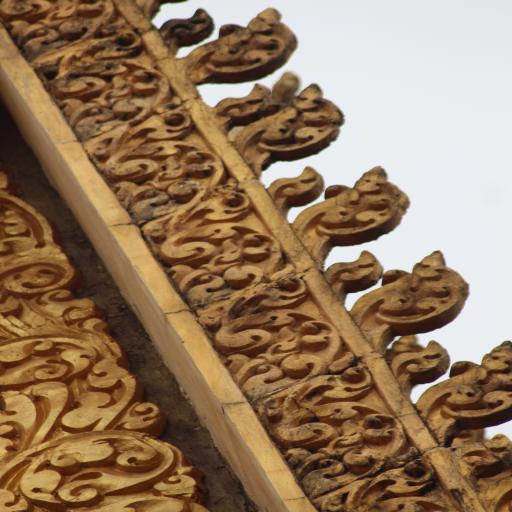la: (0, 422, 185, 511), (0, 337, 132, 422), (292, 452, 451, 512), (180, 282, 324, 346), (82, 118, 222, 174), (253, 401, 406, 452), (224, 346, 370, 399), (4, 2, 130, 62), (150, 222, 278, 281), (40, 62, 172, 118), (122, 171, 252, 223), (0, 191, 79, 276), (0, 275, 98, 335)
lua: (298, 168, 413, 251), (361, 249, 473, 333), (241, 85, 344, 175), (186, 6, 300, 84), (424, 339, 512, 421)
